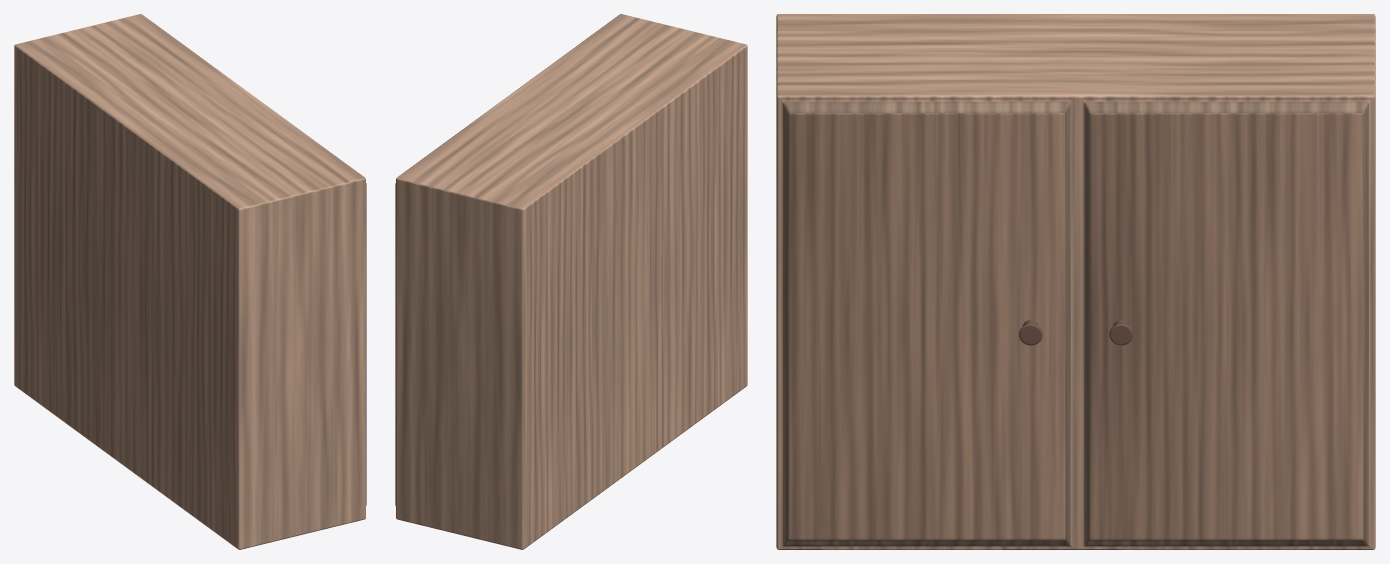
File: dulap.fbx
3 views of the same model, side by side, from view 1: azimuth 30°, elevation 25°; view 2: azimuth 150°, elevation 25°; view 3: azimuth 270°, elevation 25° (orthographic). The views are drawn at different scales.
Parts seen in each view (by area): view 1: Cube; view 2: Cube; view 3: Cube, Cylinder.
Part boxes in pixels (x1,y1,x2,y2): Cube: [14, 14, 366, 549]; Cube: [395, 14, 747, 549]; Cube: [776, 14, 1375, 549]; Cylinder: [1019, 319, 1132, 345].
Size of the model in its own units: 228 by 510 by 609.
Materials: 4 (3 with a texture image).
